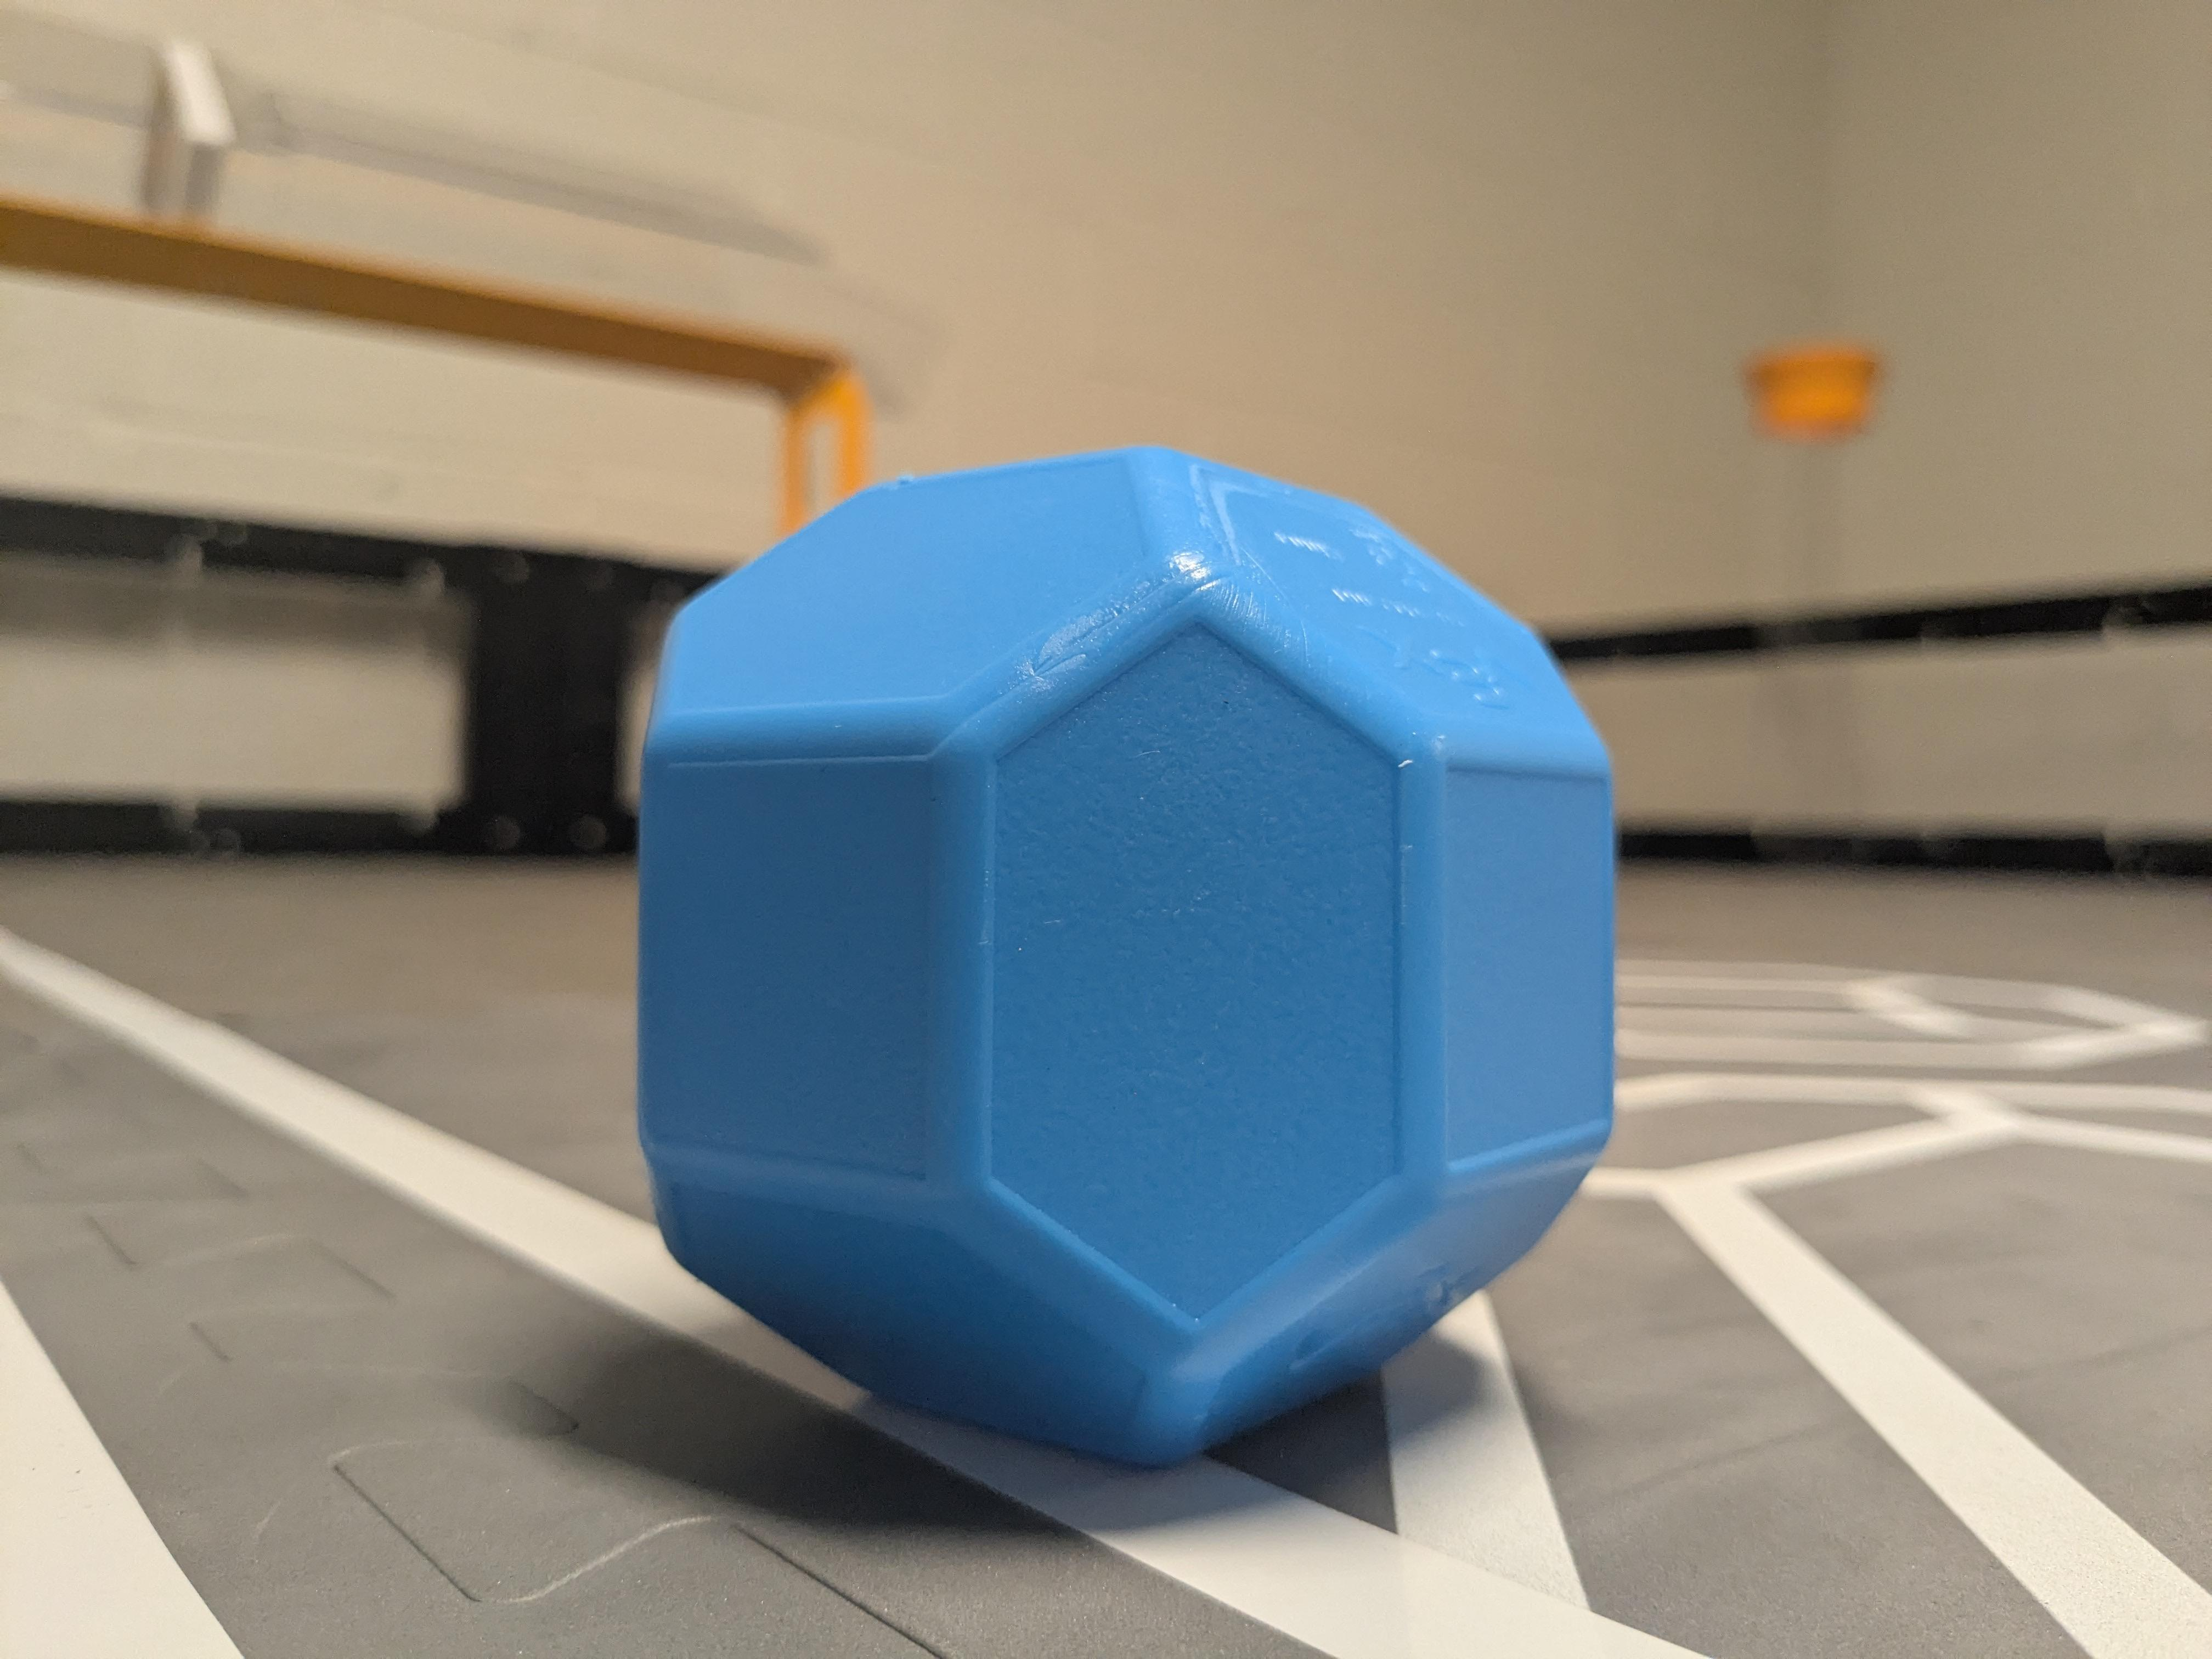Vex-Pieces-BLUE: (639, 450, 1613, 1466)
